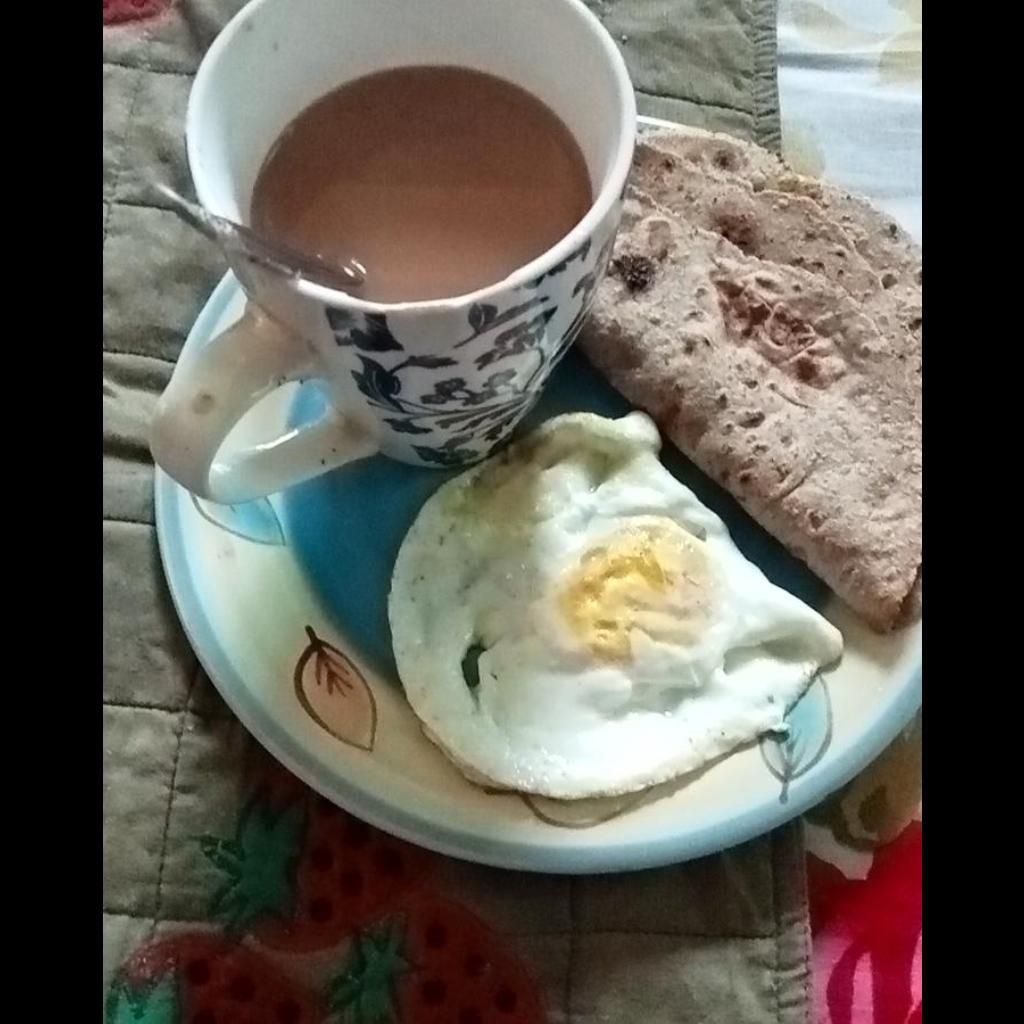cha: (248, 66, 586, 299)
egg-poached: (387, 412, 849, 801)
ruti: (576, 127, 920, 633)
